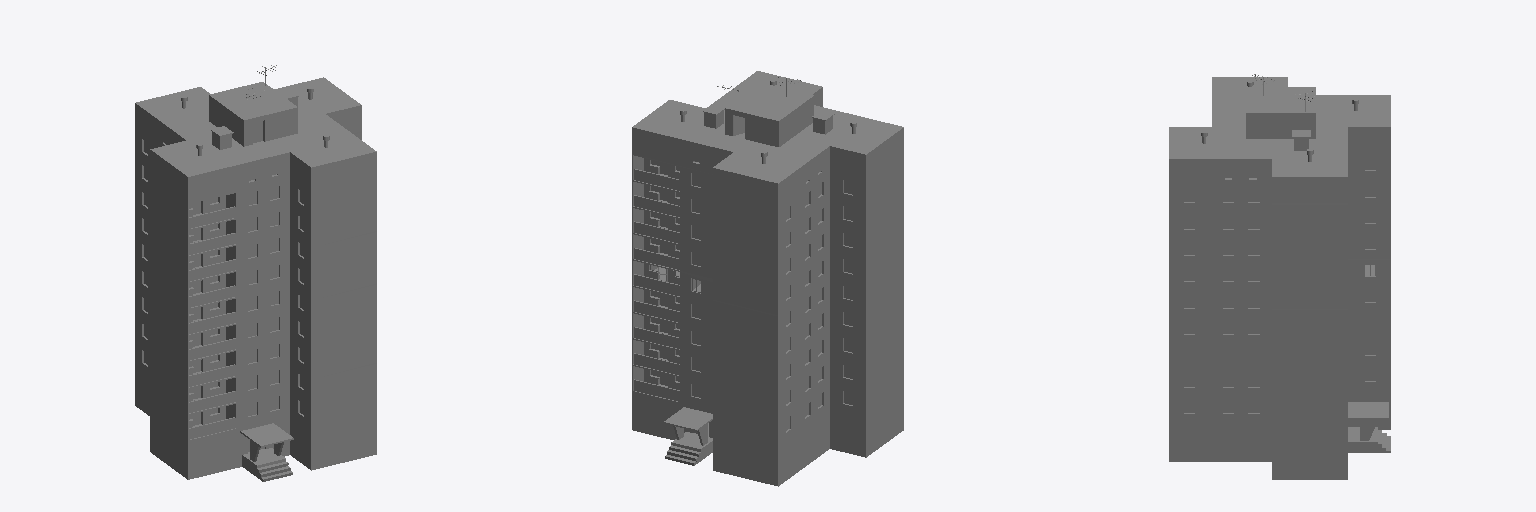
Rendered from house.obj.
3 renders of one model, left to right at view 1: azimuth 30°, elevation 25°; view 2: azimuth 150°, elevation 25°; view 3: azimuth 270°, elevation 25°, orthographic.
Visible parts, largest first — view 1: house, kv; view 2: house, kv; view 3: house.
Part boxes in pixels (x1,y1,x2,y2): house: (135,65,376,481); kv: (189,167,235,202); house: (632,71,903,486); kv: (633,129,744,291); house: (1169,74,1390,479).
Size of the model in its own units: 104 by 170 by 97.95.